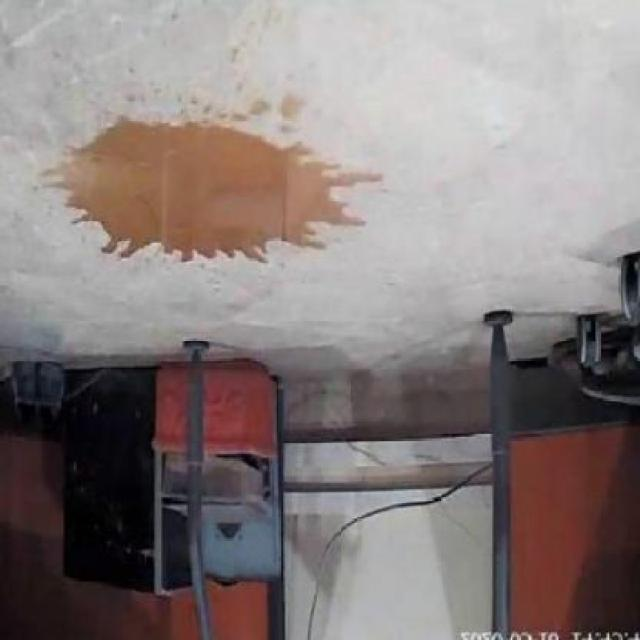spillage: (60, 115, 370, 262)
